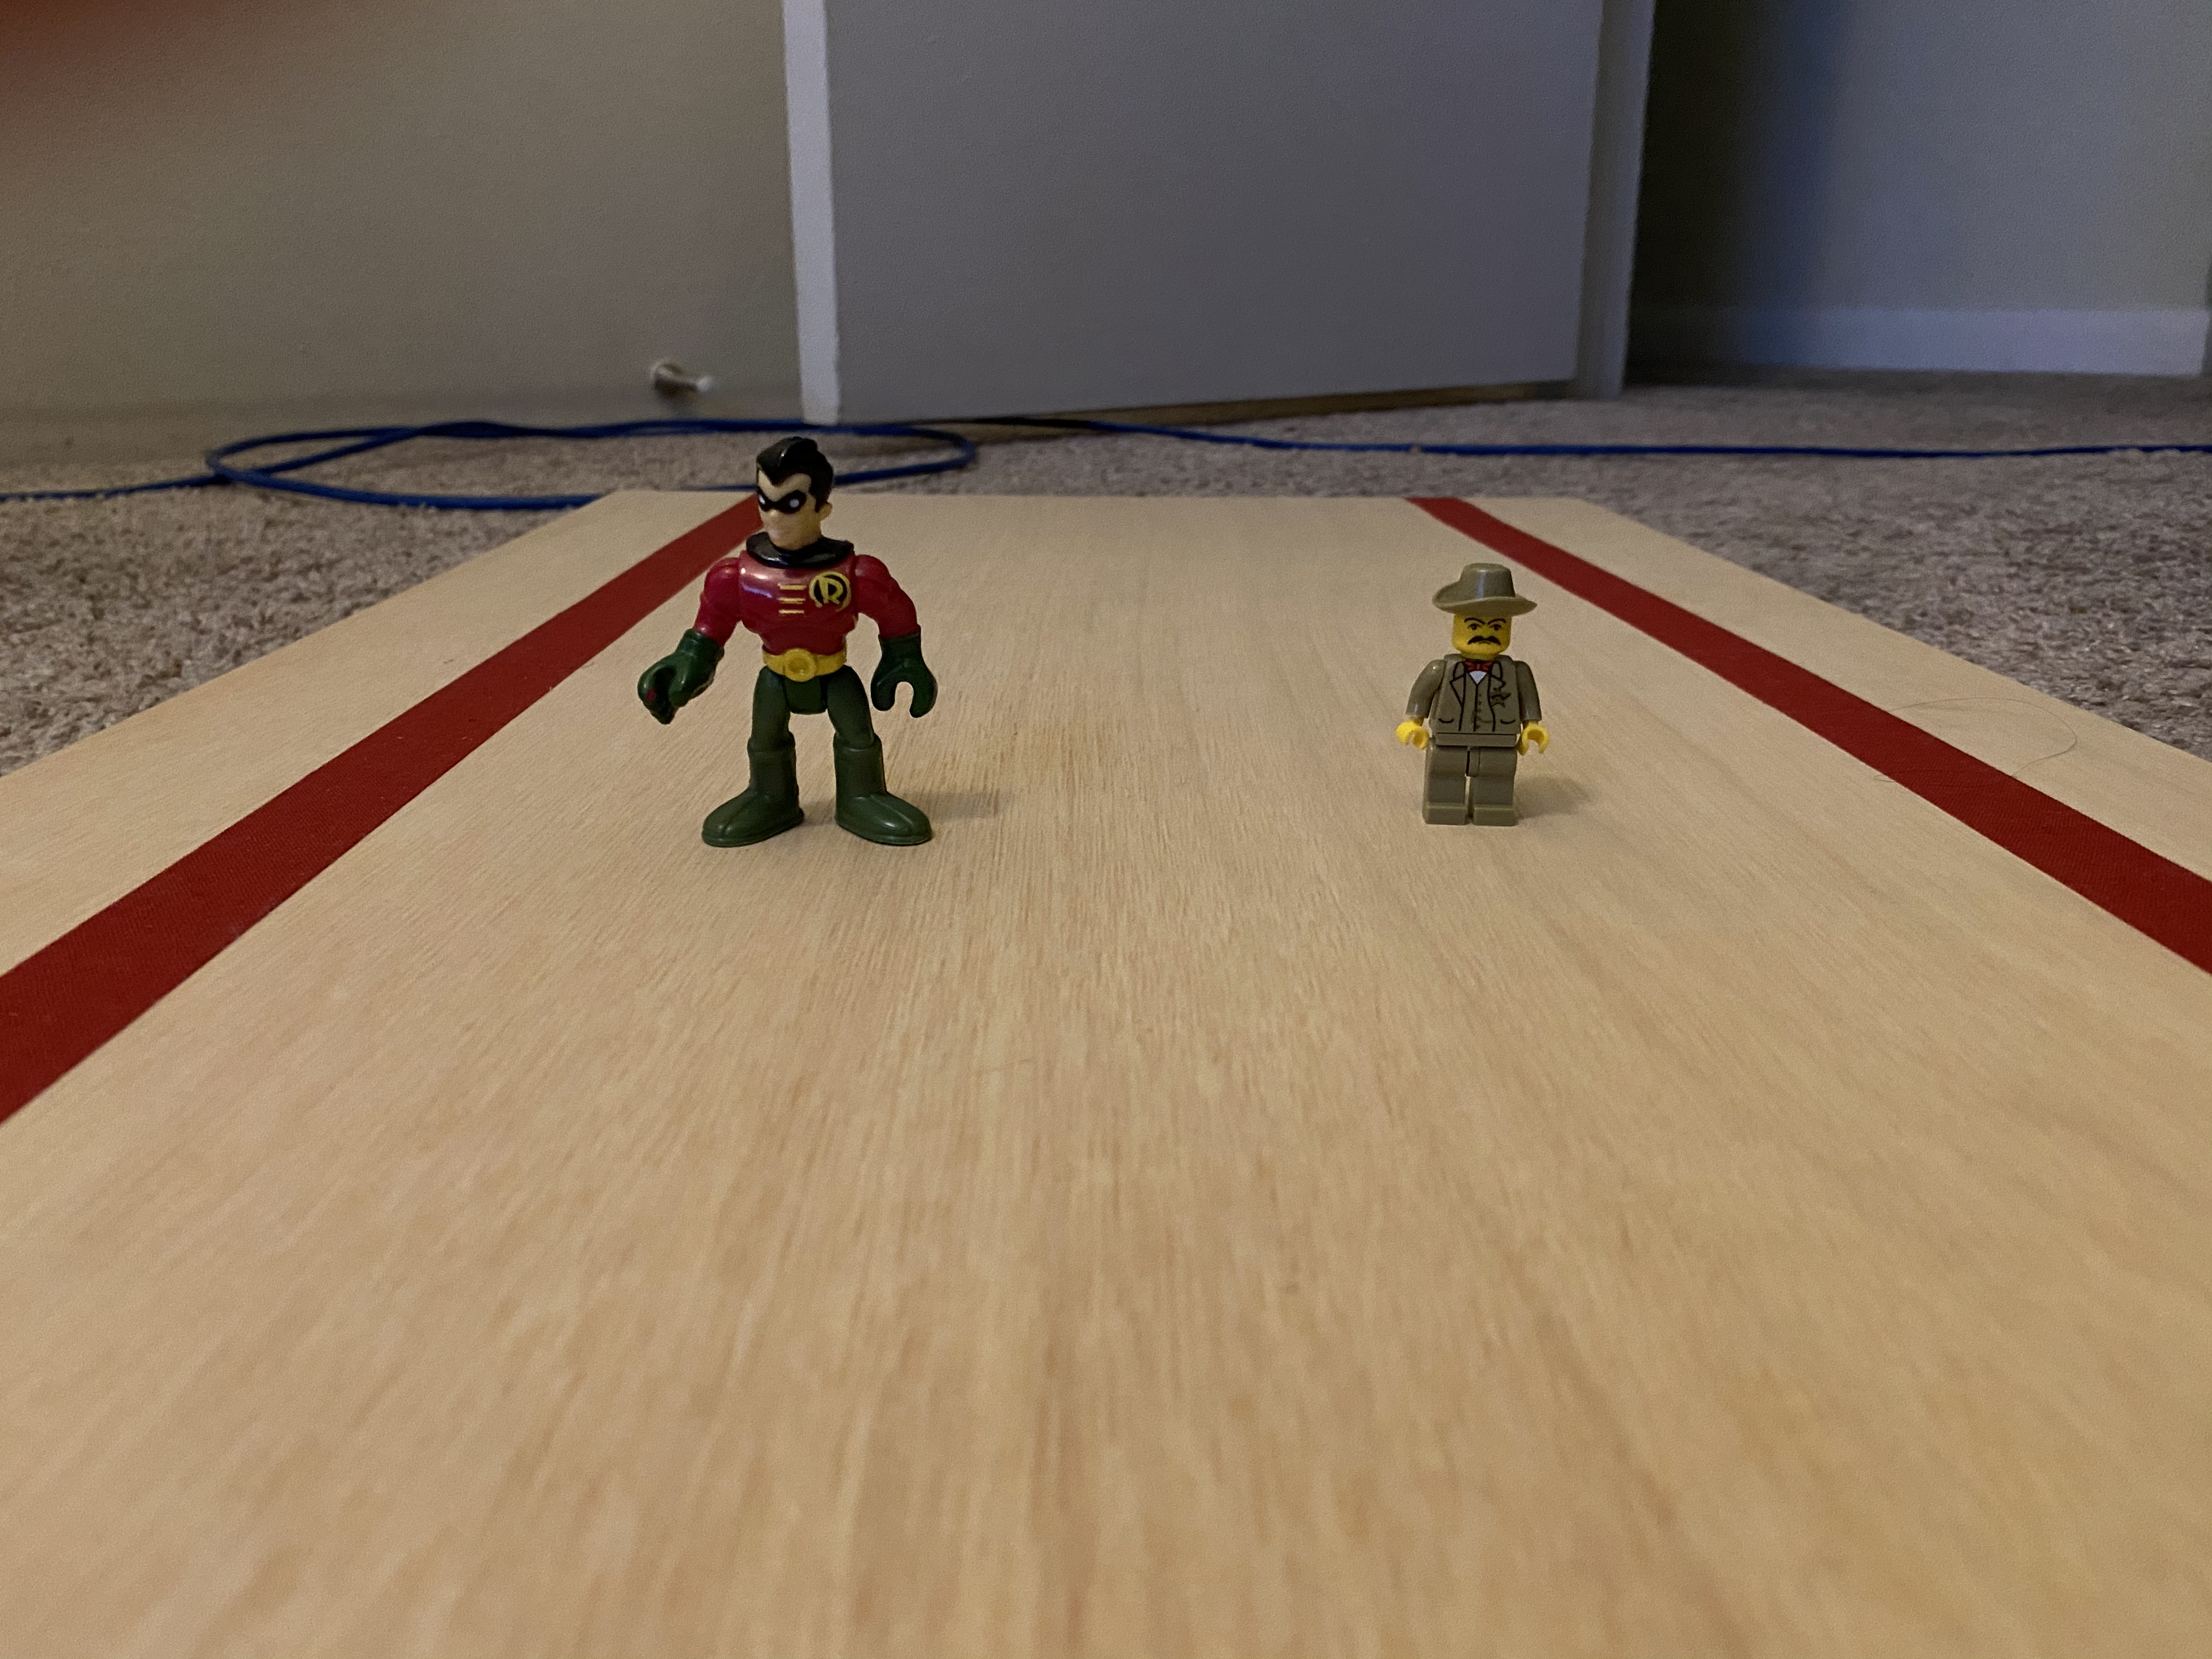Person: (649, 418, 978, 871), (1394, 560, 1568, 834)
